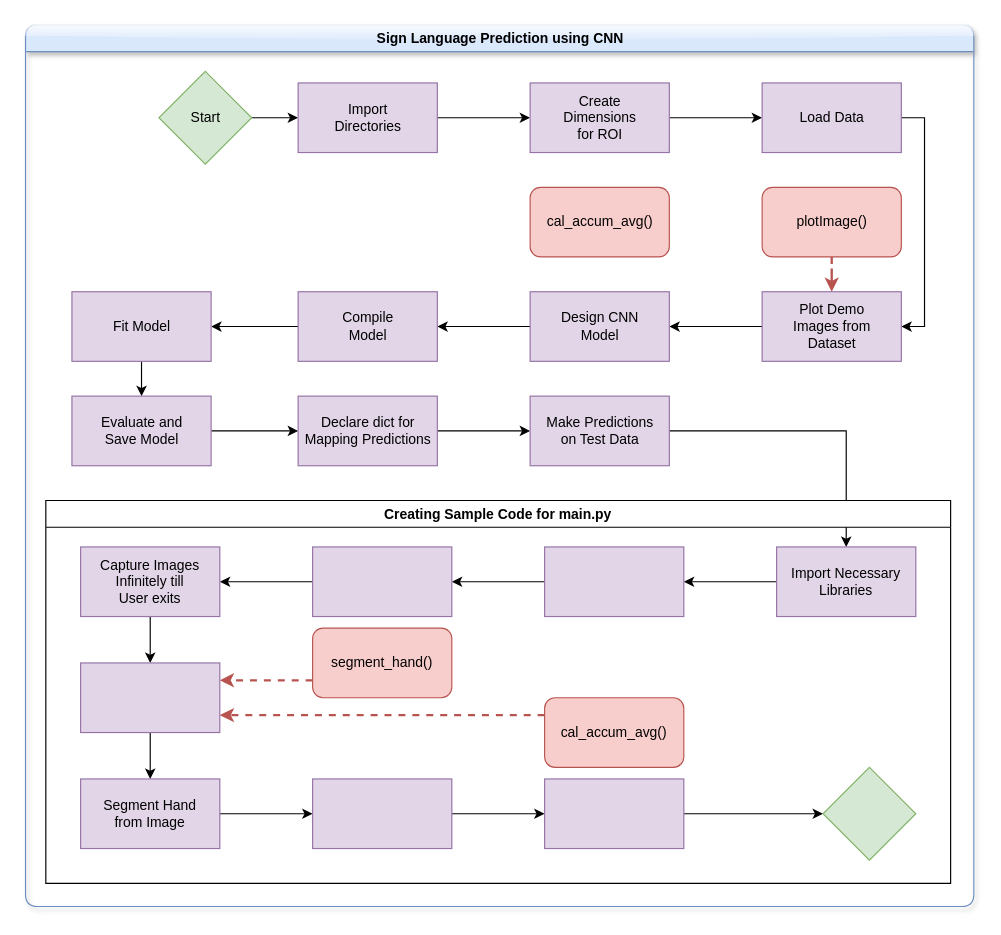
Image size: 1001x935. Some labels were removed from this diagram. Here are the shapes that lost their labels. From the top down, the centre of each, then its label:
At point 381,581: "Initialize Camera".
At point 613,581: "Load Saved Model".
At point 149,697: "Pre-Process each Image".
At point 381,813: "Print Prediction under ROI on Screen".
At point 613,813: "Destroy Camera Instance".
At point 869,813: "End".
